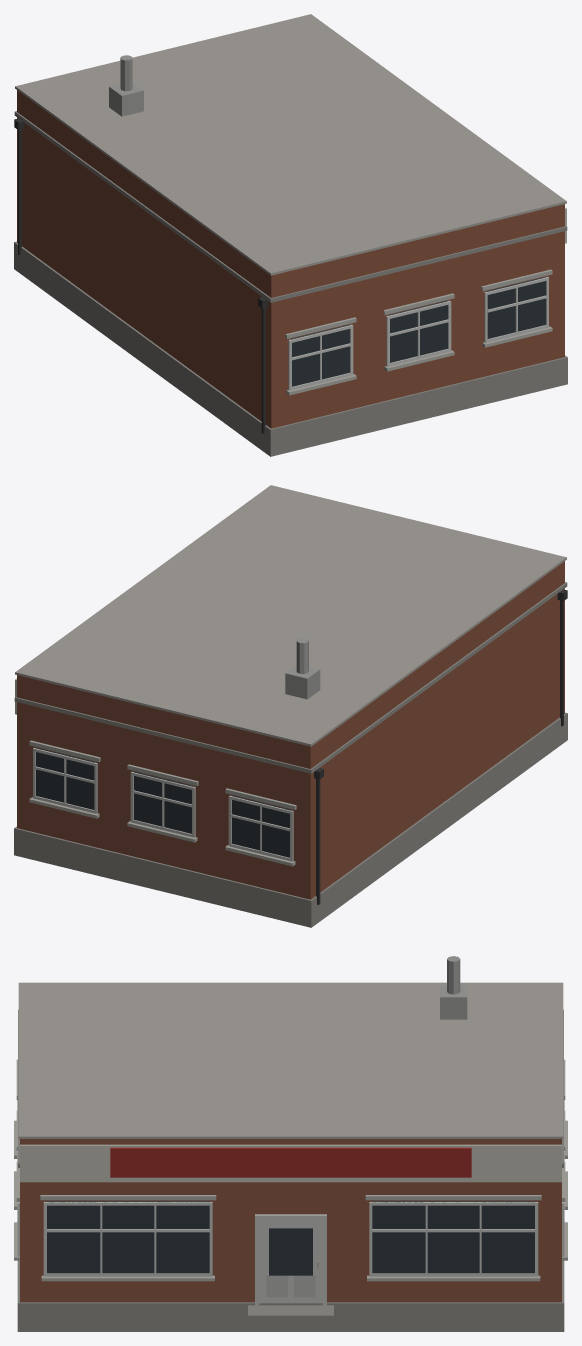
Rendered from SM_Prop_cafe_building_8.glb.
The picture shows the model from 3 angles, top to bottom: view 1: azimuth 30°, elevation 25°; view 2: azimuth 150°, elevation 25°; view 3: azimuth 270°, elevation 25°; orthographic projection. The views are drawn at different scales.
Visible parts, largest first — view 1: SM_Prop_cafe_building_8; view 2: SM_Prop_cafe_building_8; view 3: SM_Prop_cafe_building_8.
Boxes of the visible parts, bbox=[...] form: SM_Prop_cafe_building_8: bbox=[14, 14, 567, 456]; SM_Prop_cafe_building_8: bbox=[14, 485, 567, 927]; SM_Prop_cafe_building_8: bbox=[14, 956, 567, 1331].
Size of the model in its own units: 8.76 by 6.1 by 12.26.
